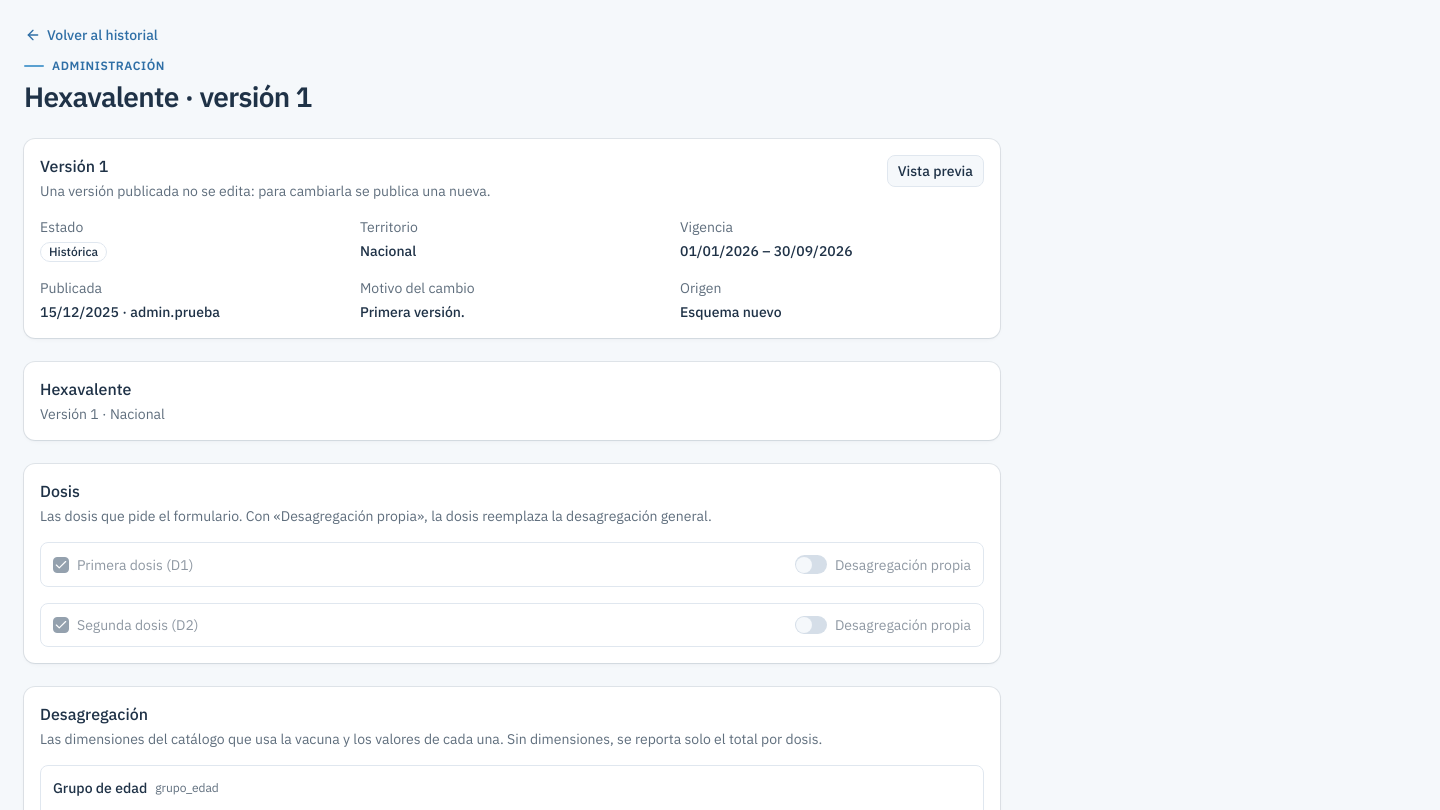
Test: "Vista previa" muestra el contenido guardado, con su vigencia y las etiquetas de lo inactivo
The width and height of the screenshot is (1440, 810).
Step 1. Click the button "Vista previa" → (935, 171), box [887, 155, 984, 187]
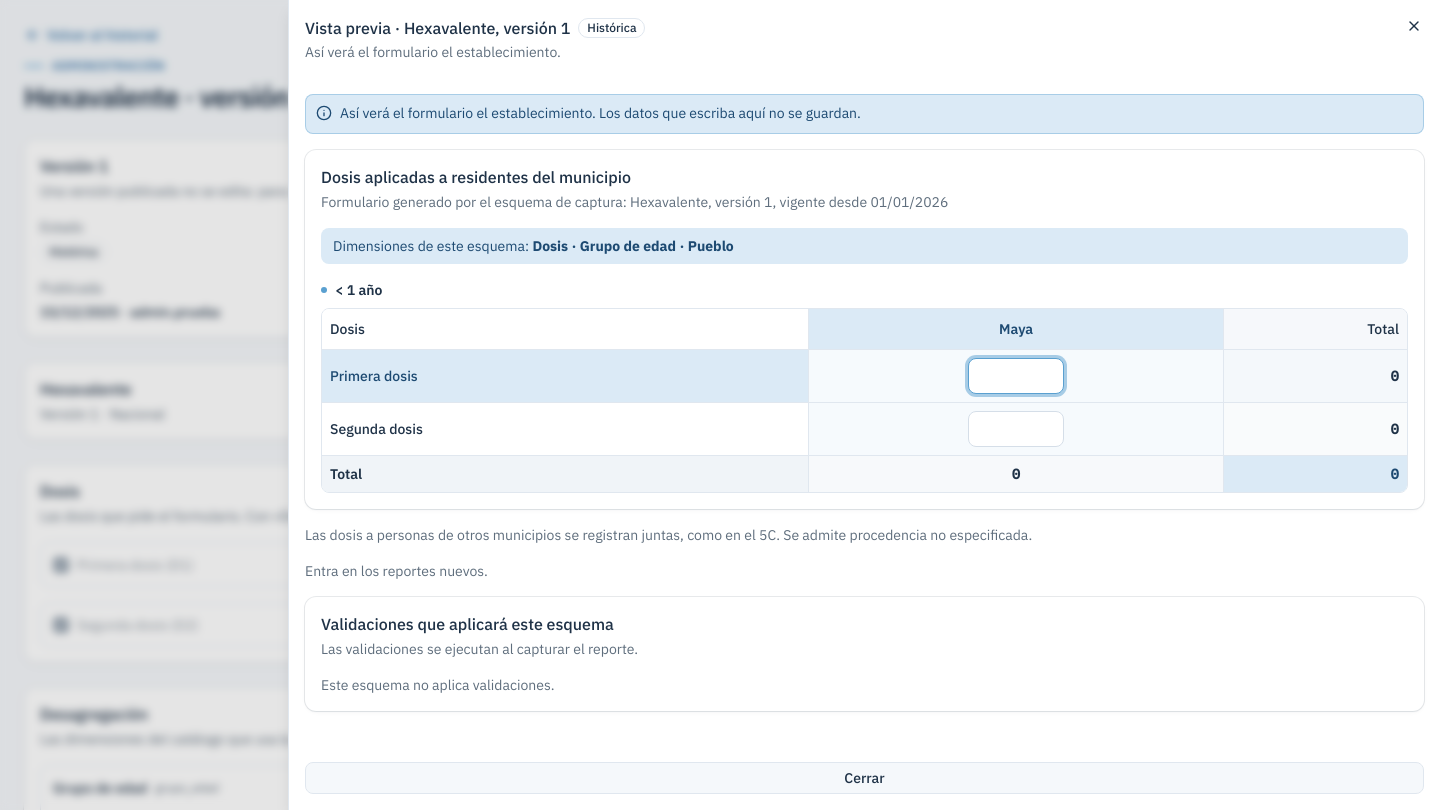
Now the heading "Vista previa · Hexavalente, versión 1" is shown, box [305, 16, 570, 40]
Now the text "Histórica" is shown, box [578, 18, 645, 38]
Now the text "Formulario generado por el esquema de captura: Hexavalente, versión 1, vigente desde 01/01/2026" is shown, box [321, 193, 948, 211]
Step 2. Click the button "Cerrar" → (864, 778), box [305, 762, 1424, 794]
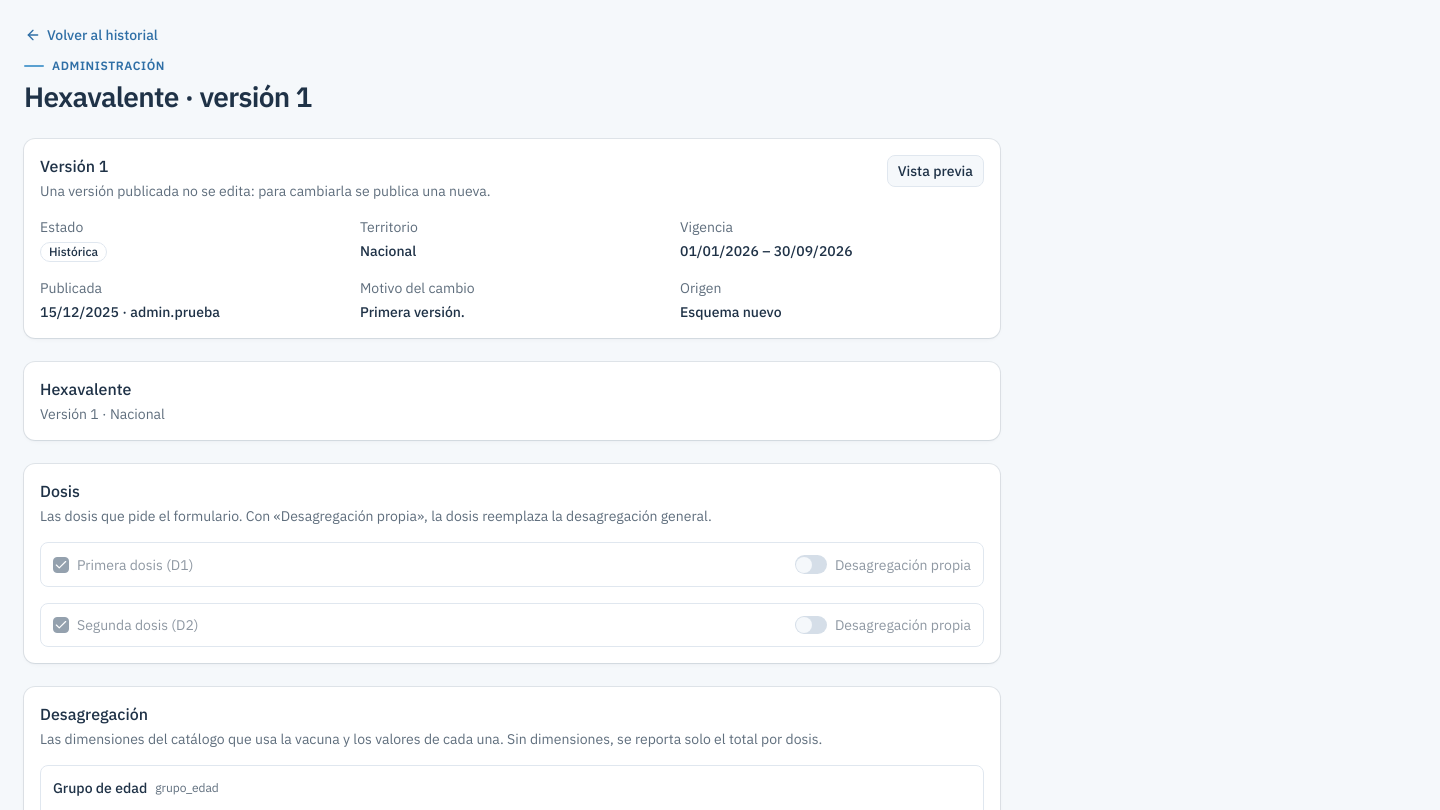
Now the dialog is gone
